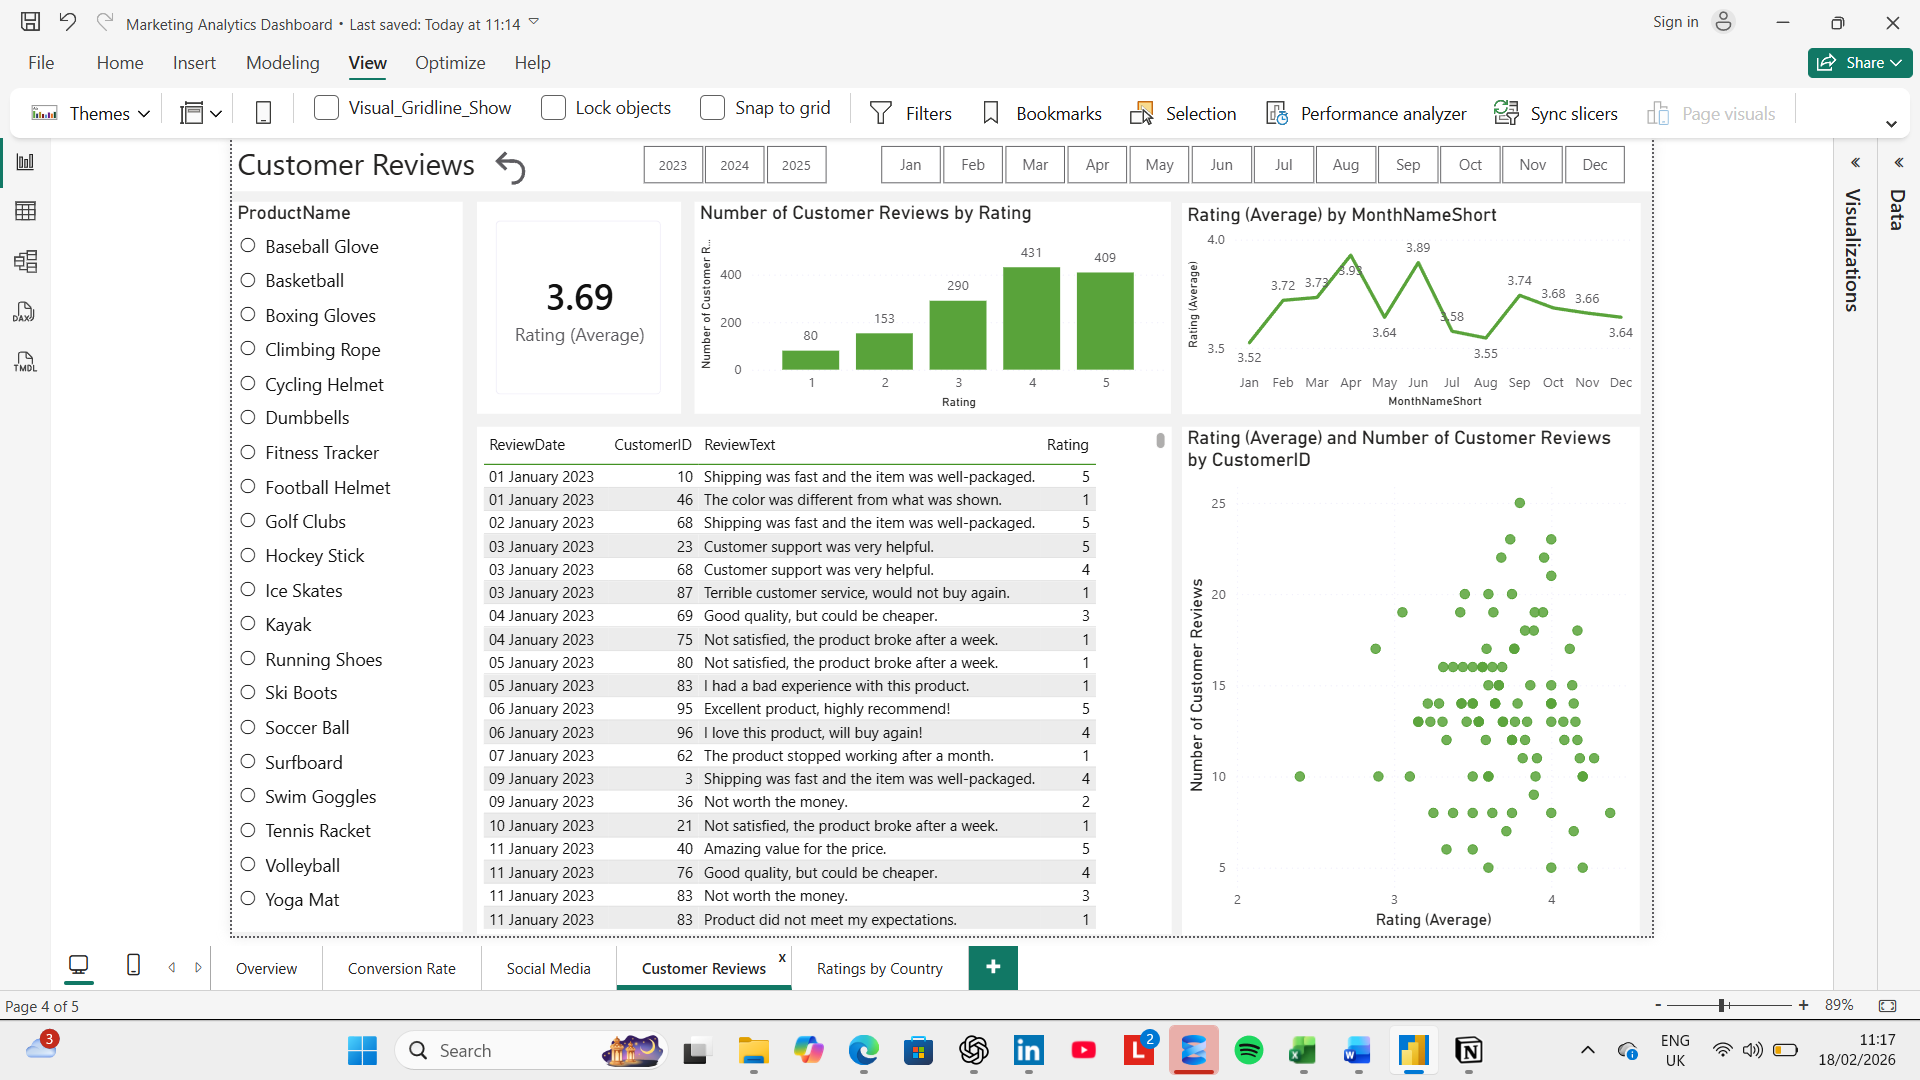

The dashboard page shown, as its layout file describes it:
{"tool":"powerbi","page":{"name":"Customer Reviews","canvas":[1280,720],"ordinal":3},"visuals":[{"type":"textbox","box":[0,0,1280,47.7],"z":0},{"type":"listSlicer","fields":{"Values":["dim_products.ProductName"]},"box":[0,57.7,207.7,658.8],"z":1000},{"type":"slicer","fields":{"Values":["Calendar.Year"]},"box":[344.6,0,214.9,48.1],"z":2000},{"type":"slicer","fields":{"Values":["Calendar.MonthNameShort"]},"box":[559.5,0,720.9,48.1],"z":3000},{"type":"cardVisual","fields":{"Data":["_Calculations.Rating (Average)"]},"box":[220.6,57,183.8,191.4],"z":4000},{"type":"clusteredColumnChart","fields":{"Y":["_Calculations.Number of Customer Reviews"],"Category":["fact_customer_reviews.Rating"]},"box":[417,57,429.7,191.4],"z":5000},{"type":"lineChart","fields":{"Category":["Calendar.MonthNameShort"],"Y":["_Calculations.Rating (Average)"]},"box":[856.9,58.3,413.2,190.1],"z":6000},{"type":"tableEx","fields":{"Values":["fact_customer_reviews.ReviewDate","dim_customers.CustomerID","fact_customer_reviews.CleanReviewText","fact_customer_reviews.Rating"]},"box":[220.6,259.9,626.2,457.6],"z":7000},{"type":"scatterChart","fields":{"X":["_Calculations.Rating (Average)"],"Y":["_Calculations.Number of Customer Reviews"],"Category":["dim_customers.CustomerID"]},"box":[857,260,413,458],"z":8000}]}

Visuals, with their boxes on the page's 1280x720 design canvas (x1, y1, x2, y2). These are canvas units, not pixel positions in the 1920x1080 screenshot, which may show the page scaled, cropped or inside an application window:
textbox: rect(0, 0, 1280, 48)
listSlicer - dim_products.ProductName: rect(0, 58, 208, 716)
slicer - Calendar.Year: rect(345, 0, 560, 48)
slicer - Calendar.MonthNameShort: rect(560, 0, 1280, 48)
cardVisual - _Calculations.Rating (Average): rect(221, 57, 404, 248)
clusteredColumnChart - _Calculations.Number of Customer Reviews x fact_customer_reviews.Rating: rect(417, 57, 847, 248)
lineChart - Calendar.MonthNameShort x _Calculations.Rating (Average): rect(857, 58, 1270, 248)
tableEx - fact_customer_reviews.ReviewDate x dim_customers.CustomerID: rect(221, 260, 847, 718)
scatterChart - _Calculations.Rating (Average) x _Calculations.Number of Customer Reviews: rect(857, 260, 1270, 718)
